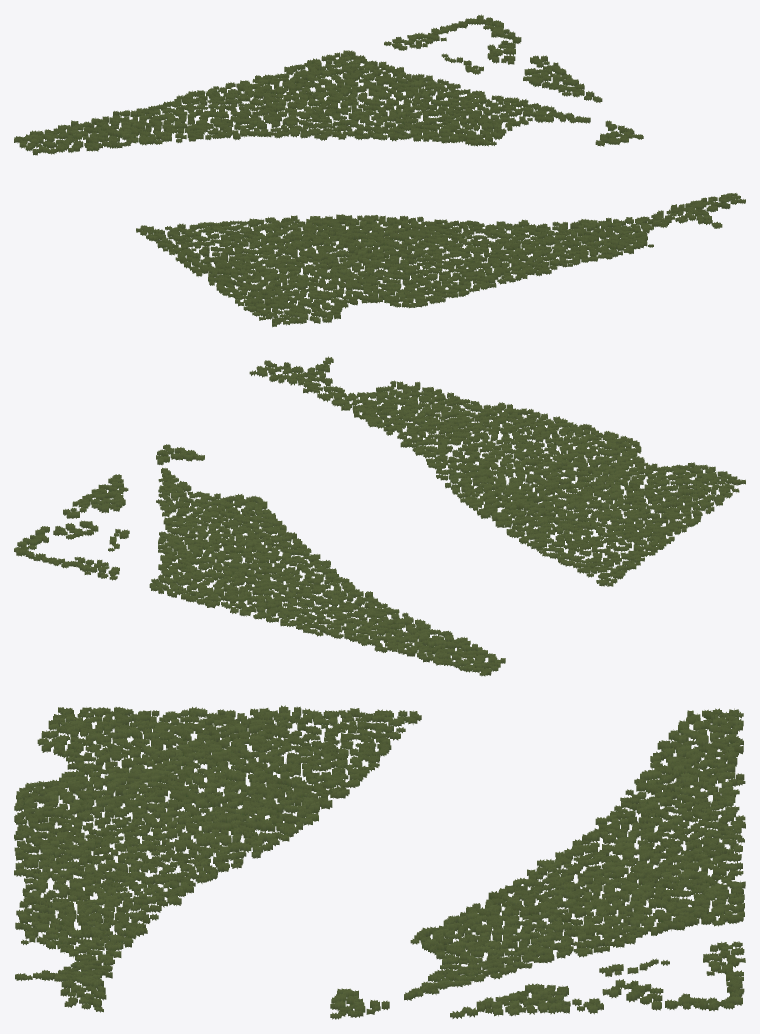
The model's file is TRB8-GRASS-CHUNK-4-3.glb.
3 renders of one model, top to bottom at view 1: azimuth 30°, elevation 25°; view 2: azimuth 150°, elevation 25°; view 3: azimuth 270°, elevation 25°, orthographic. The views are drawn at different scales.
Visible parts, largest first — view 1: TRB8-GRASS-CHUNK-4-3; view 2: TRB8-GRASS-CHUNK-4-3; view 3: TRB8-GRASS-CHUNK-4-3.
Boxes of the visible parts, x1,y1,x2,y2 form: TRB8-GRASS-CHUNK-4-3: [14, 14, 745, 327]; TRB8-GRASS-CHUNK-4-3: [14, 356, 745, 676]; TRB8-GRASS-CHUNK-4-3: [14, 705, 745, 1019].
Size of the model in its own units: 40.49 by 1.16 by 40.49.
Materials: 1 (1 with a texture image).
